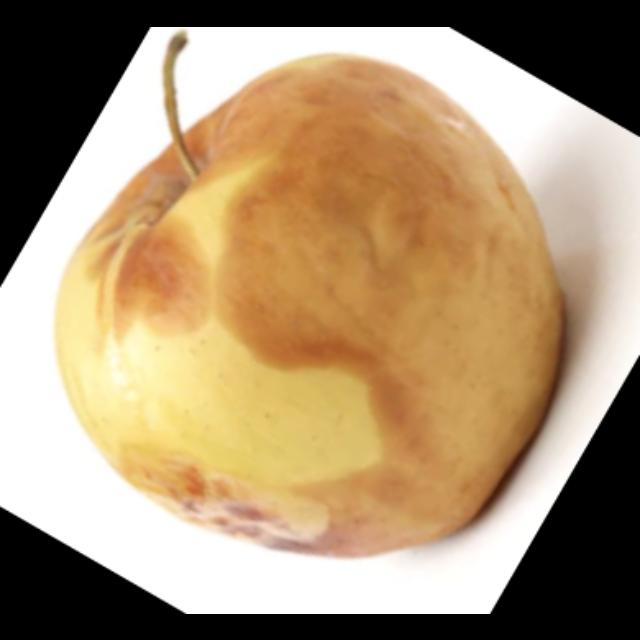Apel Tidak Segar: (44, 44, 574, 562)
